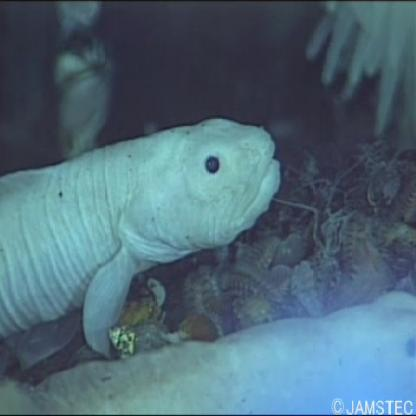Bio: (1, 110, 283, 360)
